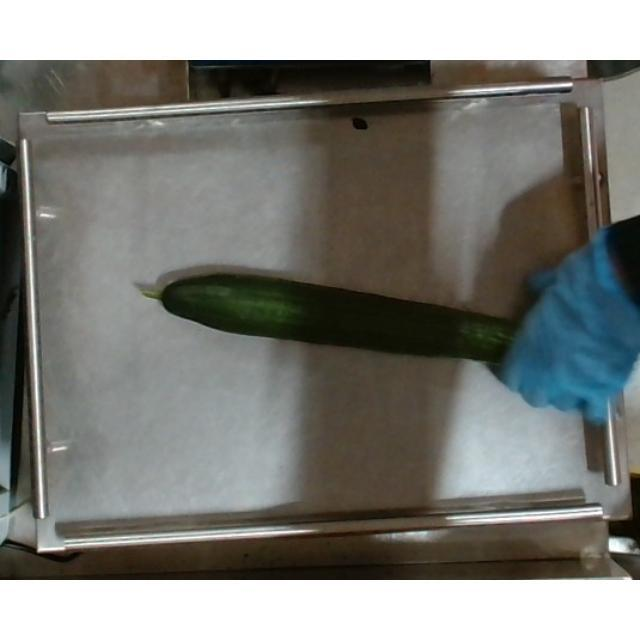cucumber: (140, 266, 580, 370)
